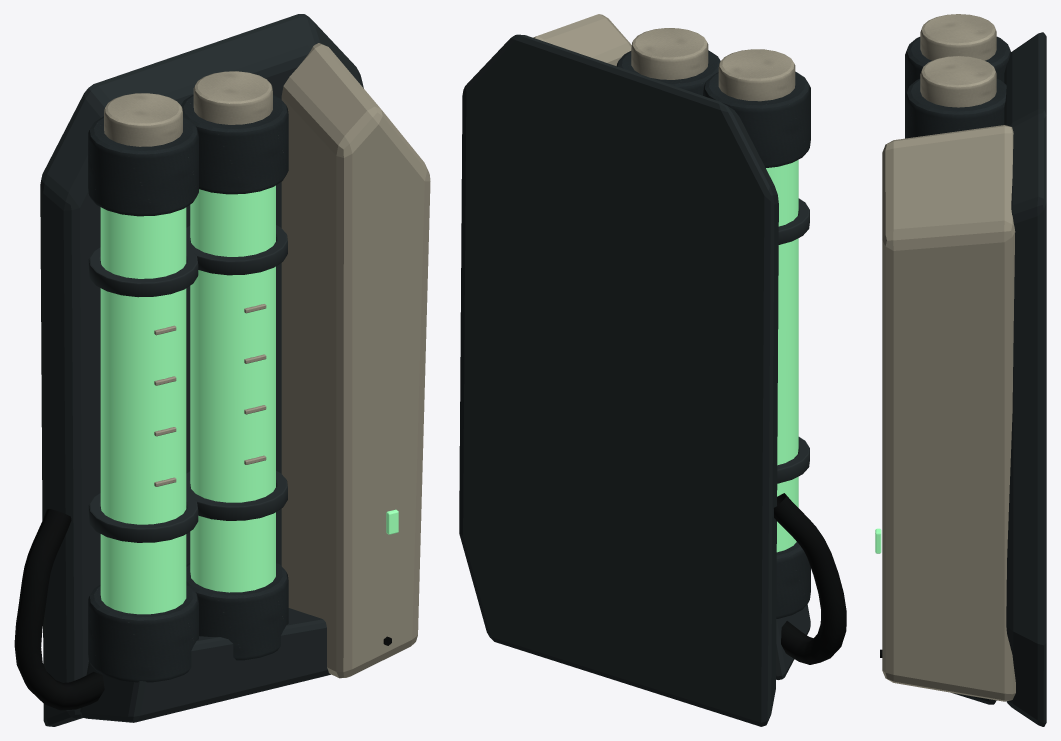
Rendered from bio_injector.glb.
The picture shows the model from 3 angles, left to right: view 1: azimuth 30°, elevation 25°; view 2: azimuth 150°, elevation 25°; view 3: azimuth 270°, elevation 25°; orthographic projection. The views are drawn at different scales.
Visible parts, largest first — view 1: steel, ivory, green, rubber; view 2: steel, ivory, green, rubber; view 3: ivory, steel.
Boxes of the visible parts, left/top/right/bottom form: steel: left=40, top=14, right=363, bottom=726; ivory: left=104, top=43, right=430, bottom=678; green: left=100, top=185, right=398, bottom=614; rubber: left=14, top=509, right=391, bottom=710; steel: left=459, top=34, right=810, bottom=726; ivory: left=533, top=14, right=795, bottom=101; green: left=766, top=159, right=798, bottom=552; rubber: left=774, top=493, right=846, bottom=664; ivory: left=882, top=14, right=1015, bottom=701; steel: left=905, top=32, right=1046, bottom=726.
Bounding box in the file's own units: 0.1079 × 0.1804 × 0.0448.
6 materials, 5 textured.
